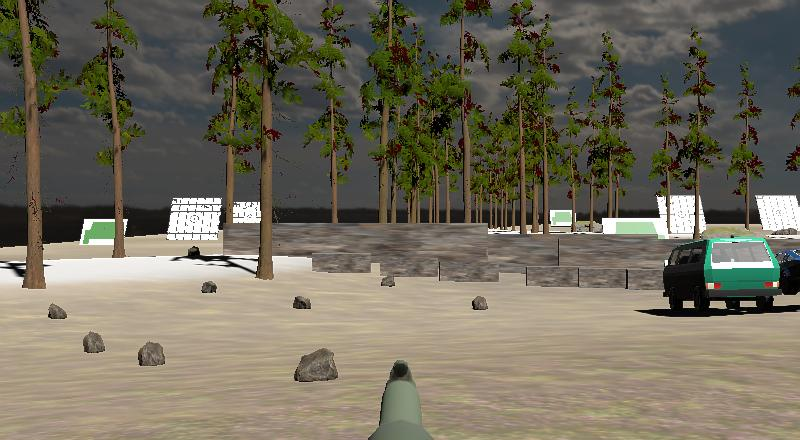car: (660, 235, 782, 316), (777, 247, 800, 296)
